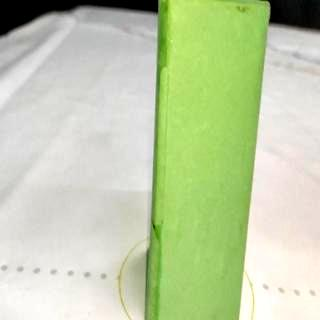greenbox: (145, 0, 271, 318)
